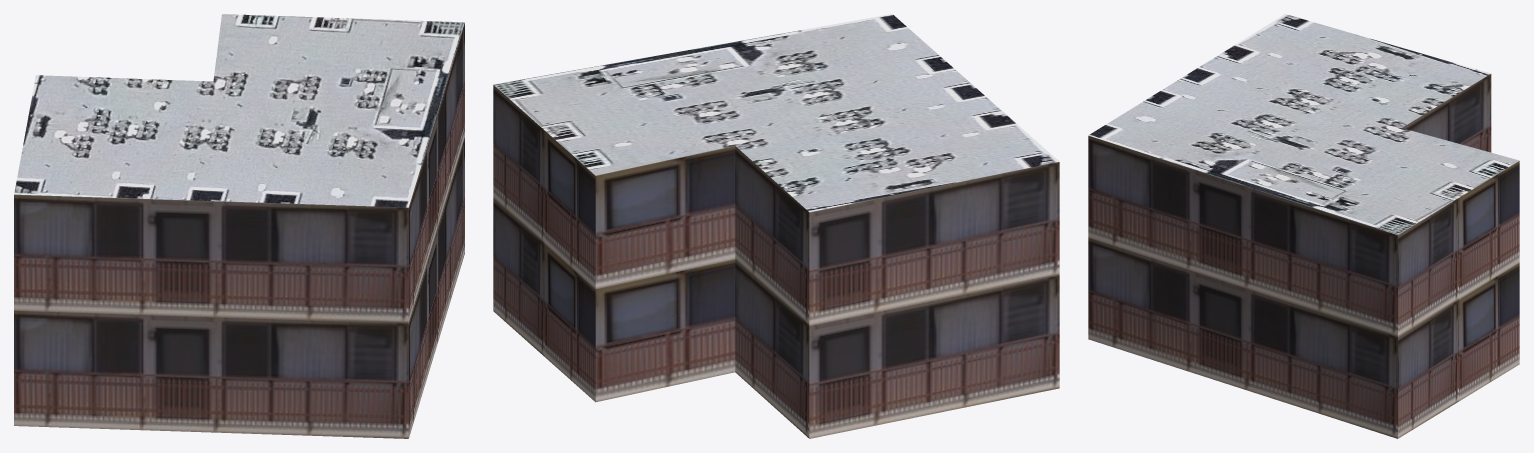
File: ResTex__3673.fbx
The picture shows the model from 3 angles, left to right: view 1: azimuth 30°, elevation 25°; view 2: azimuth 150°, elevation 25°; view 3: azimuth 270°, elevation 25°; orthographic projection. The views are drawn at different scales.
Visible parts, largest first — view 1: CityEngineMaterial_6_m, CityEngineMaterial_8_m; view 2: CityEngineMaterial_6_m, CityEngineMaterial_8_m; view 3: CityEngineMaterial_6_m, CityEngineMaterial_8_m.
Boxes of the visible parts, bbox=[...] form: CityEngineMaterial_6_m: bbox=[14, 23, 464, 438]; CityEngineMaterial_8_m: bbox=[14, 14, 464, 207]; CityEngineMaterial_6_m: bbox=[493, 85, 1059, 438]; CityEngineMaterial_8_m: bbox=[493, 14, 1059, 212]; CityEngineMaterial_6_m: bbox=[1088, 74, 1519, 438]; CityEngineMaterial_8_m: bbox=[1088, 14, 1519, 234].
Bounding box in the file's own units: 13.96 × 6 × 11.52.
2 materials, 2 textured.
